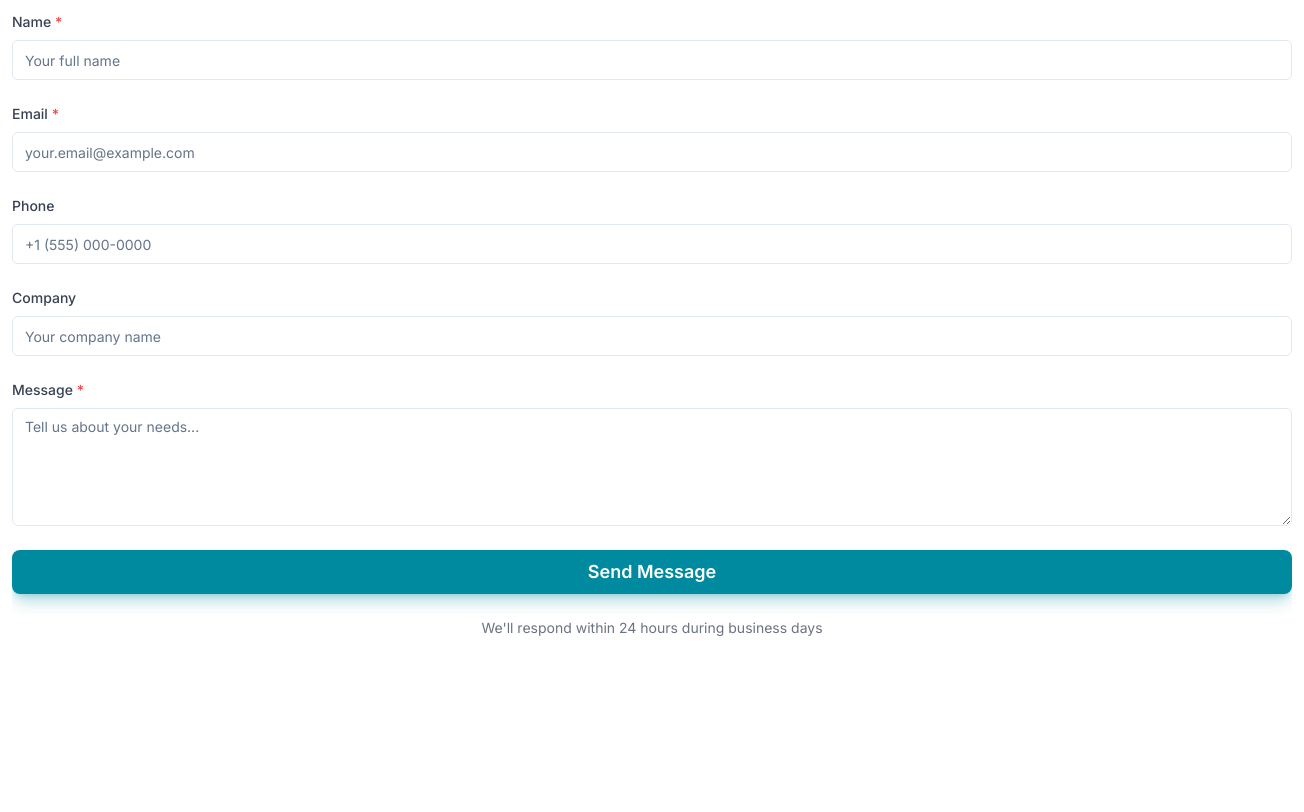
ContactForm › shows validation errors for required fields
Click the button "Send Message".
click(652, 572)  # box [12, 550, 1292, 594]
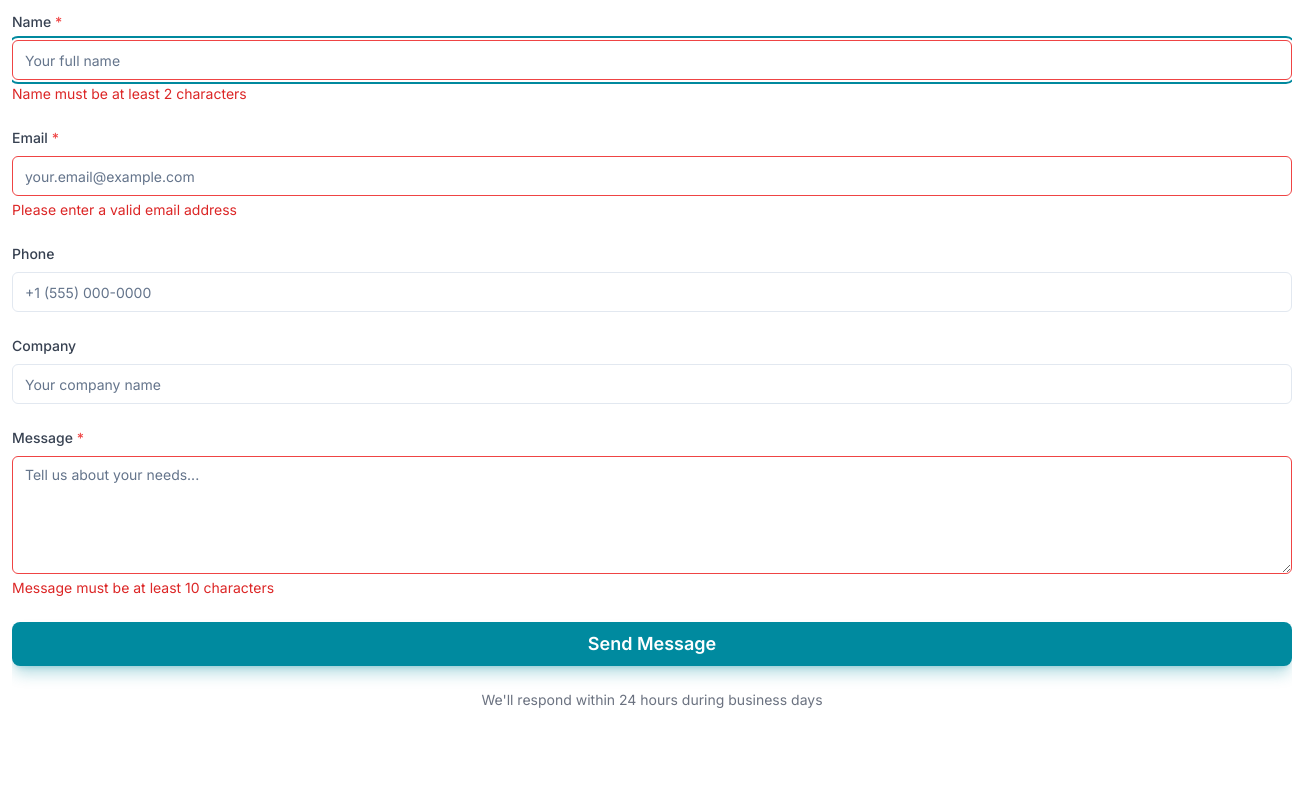
Expected: the text "Name must be at least 2 characters" is shown, [12, 85, 247, 102]
